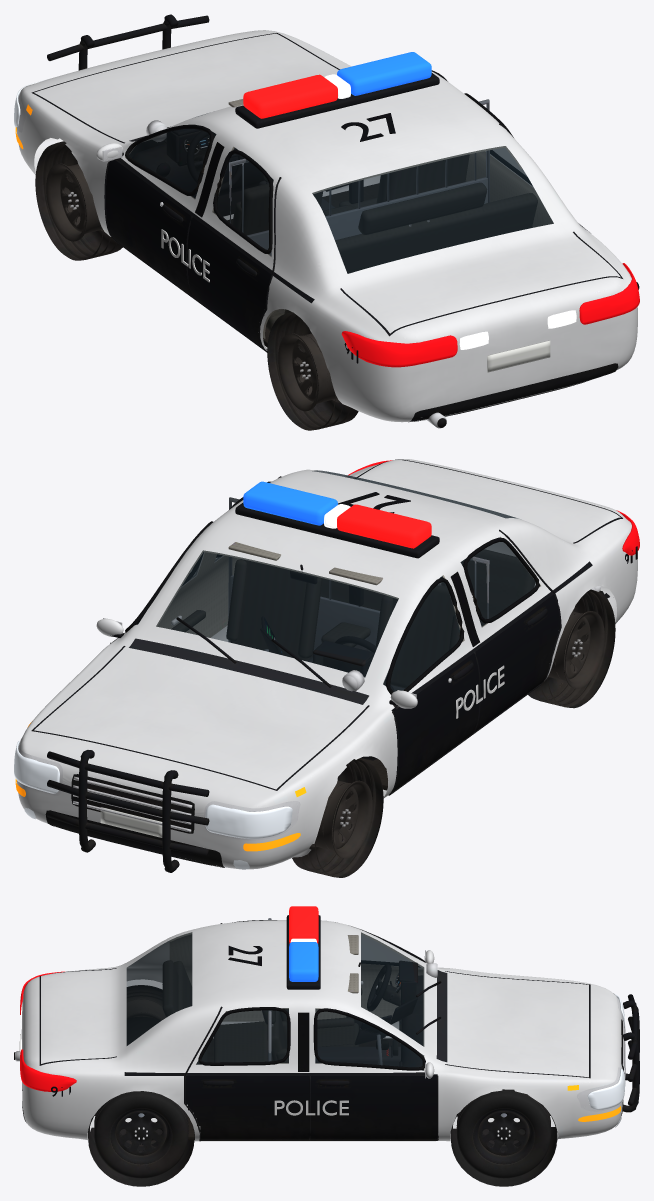
The model's file is PoliceCar.glb.
3 views of the same model, one above another, from view 1: azimuth 30°, elevation 25°; view 2: azimuth 150°, elevation 25°; view 3: azimuth 270°, elevation 25° (orthographic). The views are drawn at different scales.
Parts seen in each view (by area): view 1: PoliceCar_Body, PoliceCar_Glass, PoliceCar_Interior, PoliceCar_Trim, PoliceCar_Lights, PoliceCar_Wheel3, PoliceCar_Wheel1, PoliceCar_Steer; view 2: PoliceCar_Body, PoliceCar_Trim, PoliceCar_Interior, PoliceCar_Glass, PoliceCar_Lights, PoliceCar_Wheel1, PoliceCar_Wheel3, PoliceCar_Body2; view 3: PoliceCar_Body, PoliceCar_Glass, PoliceCar_Trim, PoliceCar_Interior, PoliceCar_Wheel2, PoliceCar_Wheel4, PoliceCar_Lights, PoliceCar_Wheel3, PoliceCar_Steer.
Boxes of the visible parts, <box> form: PoliceCar_Body: <box>17,30,637,422</box>; PoliceCar_Glass: <box>126,113,553,273</box>; PoliceCar_Interior: <box>125,99,553,346</box>; PoliceCar_Trim: <box>16,14,639,428</box>; PoliceCar_Lights: <box>14,52,639,367</box>; PoliceCar_Wheel3: <box>267,312,358,430</box>; PoliceCar_Wheel1: <box>35,141,122,260</box>; PoliceCar_Steer: <box>186,130,245,191</box>; PoliceCar_Body: <box>17,459,637,869</box>; PoliceCar_Trim: <box>18,459,637,872</box>; PoliceCar_Interior: <box>156,497,540,790</box>; PoliceCar_Glass: <box>137,470,535,691</box>; PoliceCar_Lights: <box>14,460,639,869</box>; PoliceCar_Wheel1: <box>292,759,383,877</box>; PoliceCar_Wheel3: <box>528,589,615,708</box>; PoliceCar_Body2: <box>96,618,417,708</box>; PoliceCar_Body: <box>21,920,622,1141</box>; PoliceCar_Glass: <box>126,932,424,1070</box>; PoliceCar_Trim: <box>14,915,639,1186</box>; PoliceCar_Interior: <box>162,918,424,1140</box>; PoliceCar_Wheel2: <box>456,1090,550,1178</box>; PoliceCar_Wheel4: <box>94,1091,188,1178</box>; PoliceCar_Lights: <box>20,906,625,1127</box>; PoliceCar_Wheel3: <box>126,985,165,1020</box>; PoliceCar_Steer: <box>367,964,391,1011</box>.
Bounding box in the file's own units: 7.68 × 5.68 × 16.59.
Materials: 17 (9 with a texture image).
